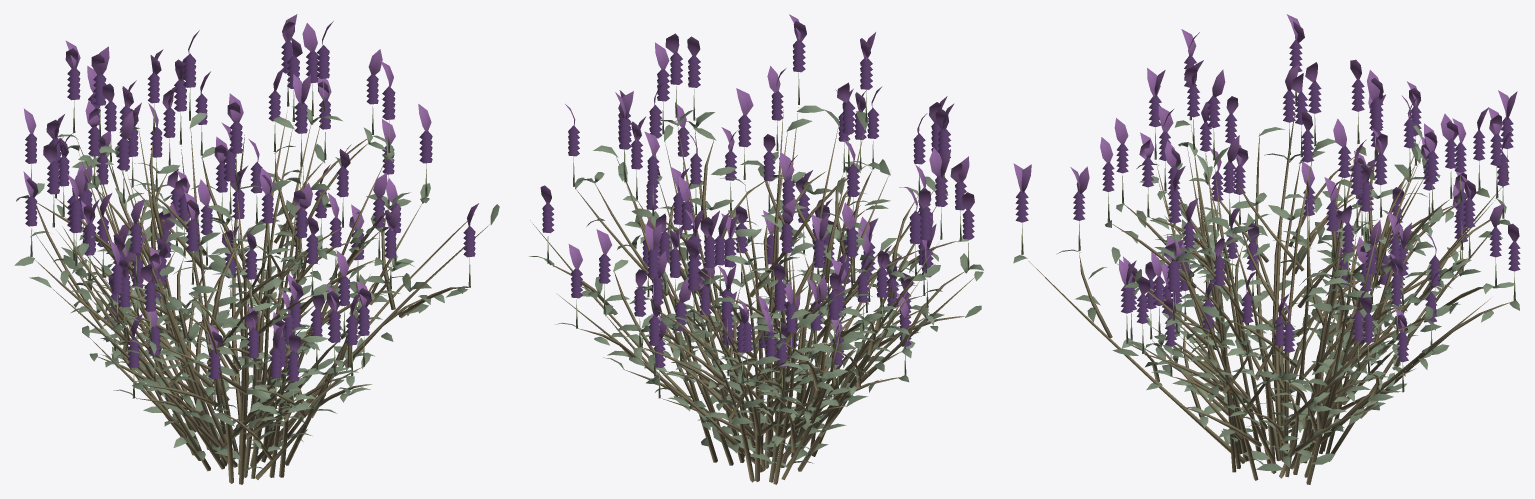
File: Lavande_Dense_LOD1.fbx
3 renders of one model, left to right at view 1: azimuth 30°, elevation 25°; view 2: azimuth 150°, elevation 25°; view 3: azimuth 270°, elevation 25°, orthographic.
Visible parts, largest first — view 1: Lavande_Dense_LOD1; view 2: Lavande_Dense_LOD1; view 3: Lavande_Dense_LOD1.
Boxes of the visible parts, x1,y1,x2,y2 form: Lavande_Dense_LOD1: (14, 14, 499, 484); Lavande_Dense_LOD1: (529, 14, 983, 484); Lavande_Dense_LOD1: (1013, 14, 1520, 484).
Bounding box in the file's own units: 69.62 × 61.45 × 68.54.
